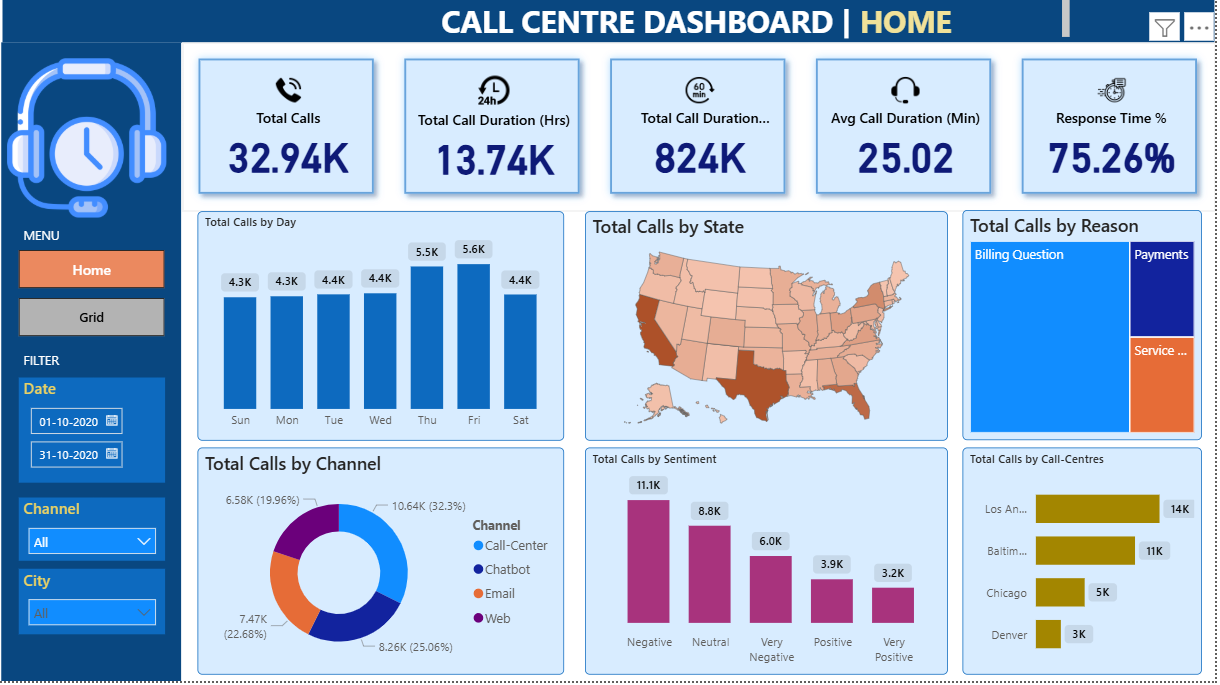

Layout of this report page (visuals, bound fields, positions):
{"tool":"powerbi","page":{"name":"Home","canvas":[1280,720],"ordinal":0},"visuals":[{"type":"shape","box":[7.8,0,1272.2,50],"z":0},{"type":"shape","box":[7.2,49.3,188.8,670.9],"z":1000},{"type":"cardVisual","fields":{"Data":["Call Center_Call Center.Total Calls","Call Center_Call Center.Total Call Duration (Hrs)","Call Center_Call Center.Total Call Duration (min)","Call Center_Call Center.Avg Call Duration (Min)","Call Center_Call Center.Response Time %"]},"box":[197.2,50.5,1083.4,176.8],"z":2000},{"type":"textbox","box":[462.9,0,669.7,50.5],"z":3000},{"type":"columnChart","fields":{"Category":["Date Table.Day"],"Y":["Call Center_Call Center.Total Calls"]},"box":[212.8,227.3,384.8,240.5],"z":4000},{"type":"shapeMap","fields":{"Category":["Call Center_Call Center.State"],"Value":["Call Center_Call Center.Total Calls"]},"box":[619.2,227.3,381.2,240.5],"z":5000},{"type":"treemap","fields":{"Group":["Call Center_Call Center.Reason"],"Values":["Call Center_Call Center.Total Calls"]},"box":[1016,226.1,251.3,241.7],"z":6000},{"type":"donutChart","fields":{"Category":["Call Center_Call Center.Channel"],"Y":["Call Center_Call Center.Total Calls"]},"box":[212.8,475,384.8,238.1],"z":7000},{"type":"columnChart","fields":{"Category":["Call Center_Call Center.Sentiment"],"Y":["Call Center_Call Center.Total Calls"]},"box":[619.2,475,381.2,238.1],"z":8000},{"type":"barChart","fields":{"Category":["Call Center_Call Center.Call-Centres City"],"Y":["Call Center_Call Center.Total Calls"]},"box":[1016,475,251.3,238.1],"z":9000},{"type":"slicer","title":"Date","fields":{"Values":["Date Table.Date"]},"box":[25.3,401.6,153.9,110.6],"z":10000},{"type":"slicer","title":"Channel","fields":{"Values":["Call Center_Call Center.Channel"]},"box":[25.3,527.9,153.9,66.1],"z":11000},{"type":"slicer","title":"City","fields":{"Values":["Call Center_Call Center.City"]},"box":[25.3,602.4,153.9,68.5],"z":12000},{"type":"image","box":[7.7,0,177.3,300.7],"z":13000},{"type":"bookmarkNavigator","box":[0,0,600,50],"z":13002},{"type":"pageNavigator","box":[25.3,268.1,153.9,91.4],"z":13003},{"type":"textbox","box":[25.3,238.1,95,38.5],"z":13004},{"type":"textbox","box":[25.3,369.1,99.8,32.5],"z":13005}]}

Visuals, with their boxes in screenshot pixels (x1, y1, x2, y2), scaled from the page's 1280x720 canvas onto the 1220x685 screenshot:
shape: [x1=7, y1=0, x2=1219, y2=48]
shape: [x1=7, y1=47, x2=187, y2=684]
cardVisual - Call Center_Call Center.Total Calls x Call Center_Call Center.Total Call Duration (Hrs): [x1=188, y1=48, x2=1219, y2=216]
textbox: [x1=441, y1=0, x2=1080, y2=48]
columnChart - Date Table.Day x Call Center_Call Center.Total Calls: [x1=203, y1=216, x2=570, y2=445]
shapeMap - Call Center_Call Center.State x Call Center_Call Center.Total Calls: [x1=590, y1=216, x2=954, y2=445]
treemap - Call Center_Call Center.Reason x Call Center_Call Center.Total Calls: [x1=968, y1=215, x2=1208, y2=445]
donutChart - Call Center_Call Center.Channel x Call Center_Call Center.Total Calls: [x1=203, y1=452, x2=570, y2=678]
columnChart - Call Center_Call Center.Sentiment x Call Center_Call Center.Total Calls: [x1=590, y1=452, x2=954, y2=678]
barChart - Call Center_Call Center.Call-Centres City x Call Center_Call Center.Total Calls: [x1=968, y1=452, x2=1208, y2=678]
"Date" slicer: [x1=24, y1=382, x2=171, y2=487]
"Channel" slicer: [x1=24, y1=502, x2=171, y2=565]
"City" slicer: [x1=24, y1=573, x2=171, y2=638]
image: [x1=7, y1=0, x2=176, y2=286]
bookmarkNavigator: [x1=0, y1=0, x2=572, y2=48]
pageNavigator: [x1=24, y1=255, x2=171, y2=342]
textbox: [x1=24, y1=227, x2=115, y2=263]
textbox: [x1=24, y1=351, x2=119, y2=382]
